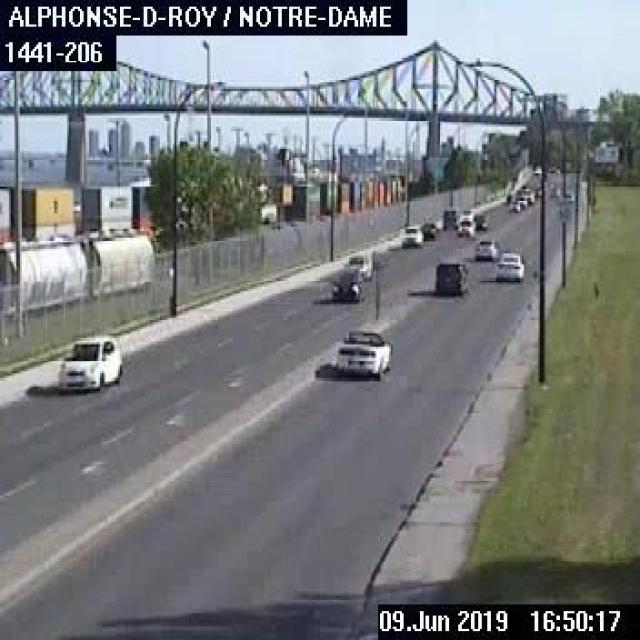vehicle: (53, 329, 124, 393), (333, 324, 391, 376), (431, 256, 467, 294), (493, 246, 526, 285), (329, 270, 366, 304), (342, 247, 376, 279), (471, 234, 498, 260), (398, 220, 422, 247), (454, 213, 474, 236), (441, 205, 458, 229), (418, 217, 435, 237), (472, 211, 487, 228), (506, 197, 520, 213)
